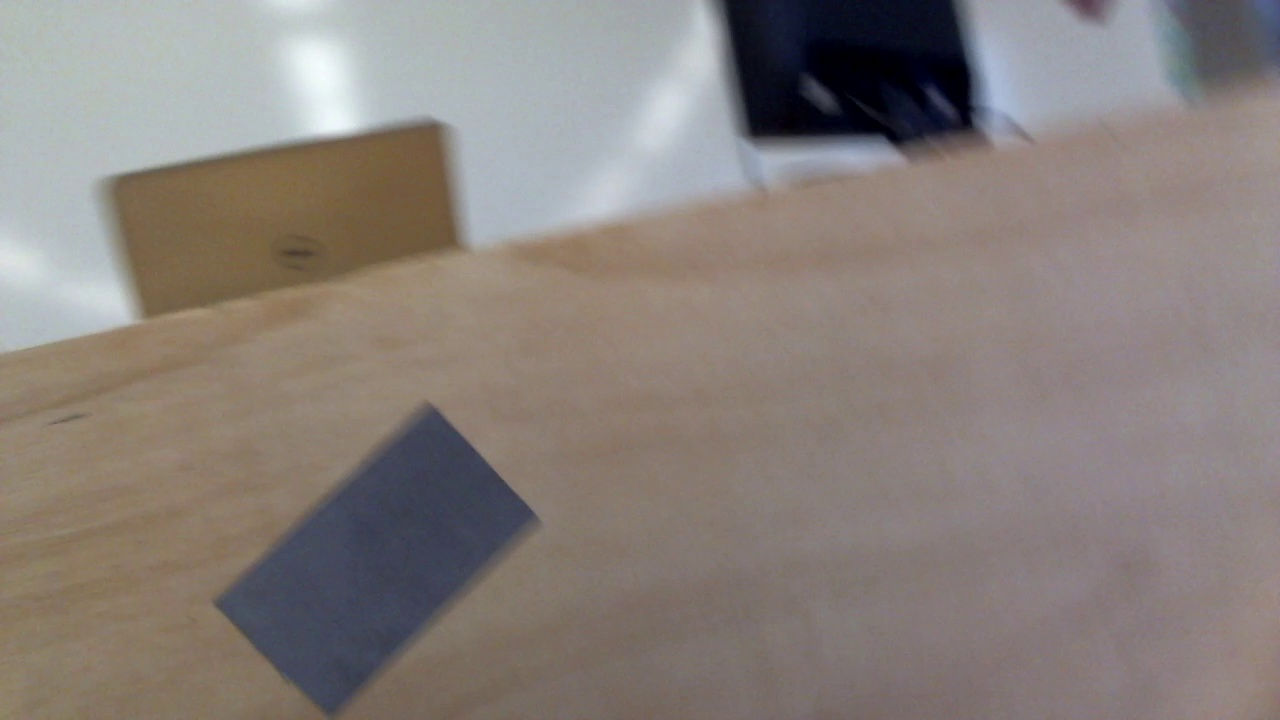Tape: (212, 402, 543, 720)
